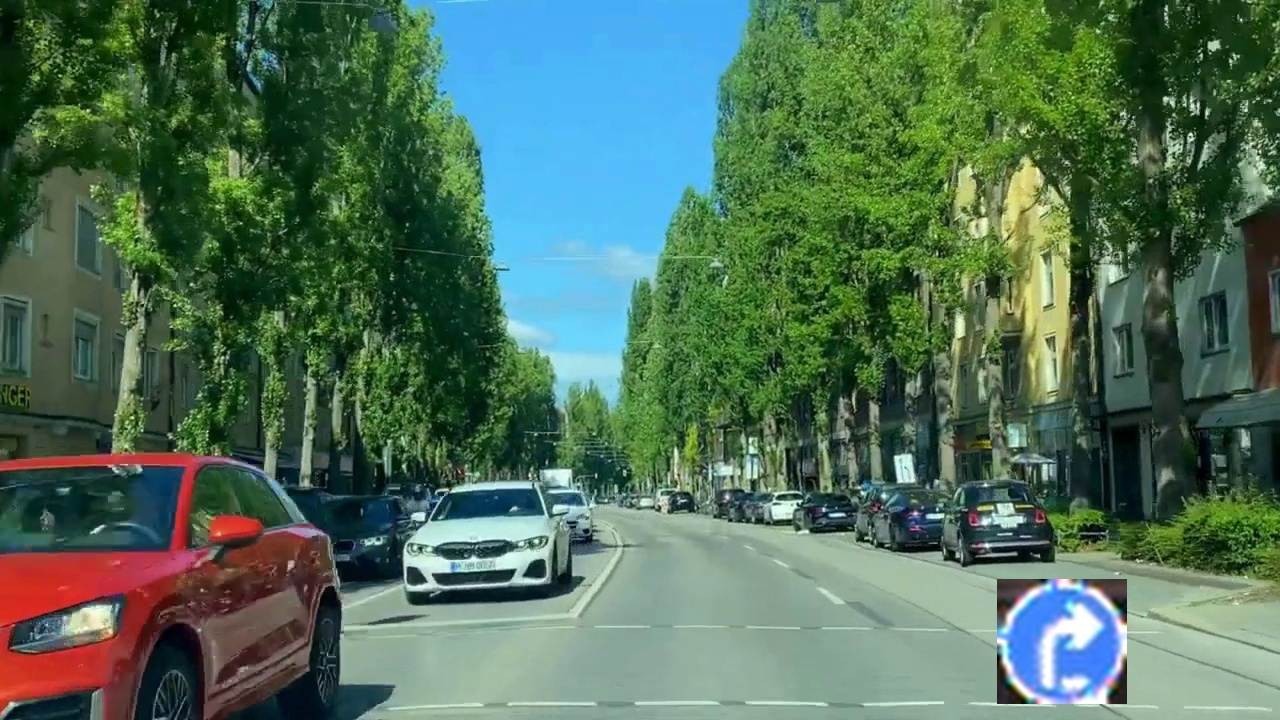Turn right: (997, 579, 1127, 704)
